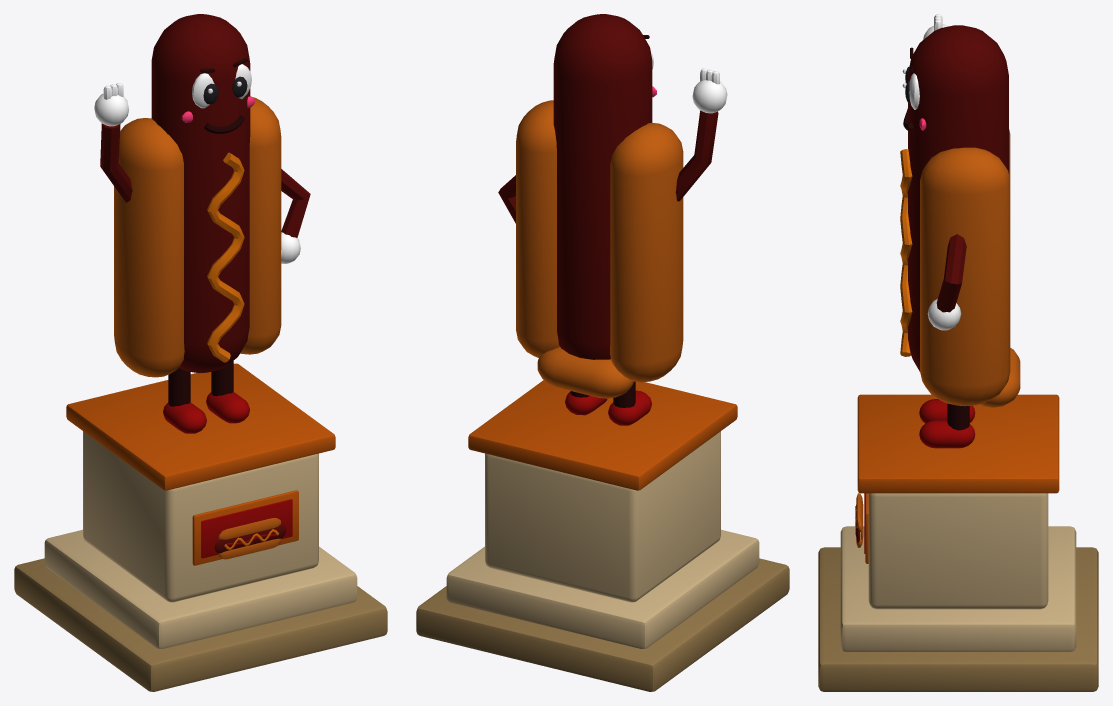
File: HotDogStatue.obj
3 views of the same model, side by side, from view 1: azimuth 30°, elevation 25°; view 2: azimuth 150°, elevation 25°; view 3: azimuth 270°, elevation 25° (orthographic).
Visible parts, largest first — view 1: HotDogStatue; view 2: HotDogStatue; view 3: HotDogStatue.
Boxes of the visible parts, x1=… form: HotDogStatue: x1=14, y1=14, x2=387, y2=691; HotDogStatue: x1=416, y1=14, x2=789, y2=691; HotDogStatue: x1=818, y1=14, x2=1098, y2=691.
Size of the model in its own units: 5 by 11.92 by 5.
